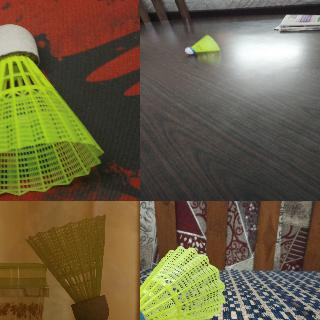shuttlecock: (0, 23, 104, 195), (26, 215, 109, 319), (140, 245, 225, 319), (184, 34, 220, 54)
